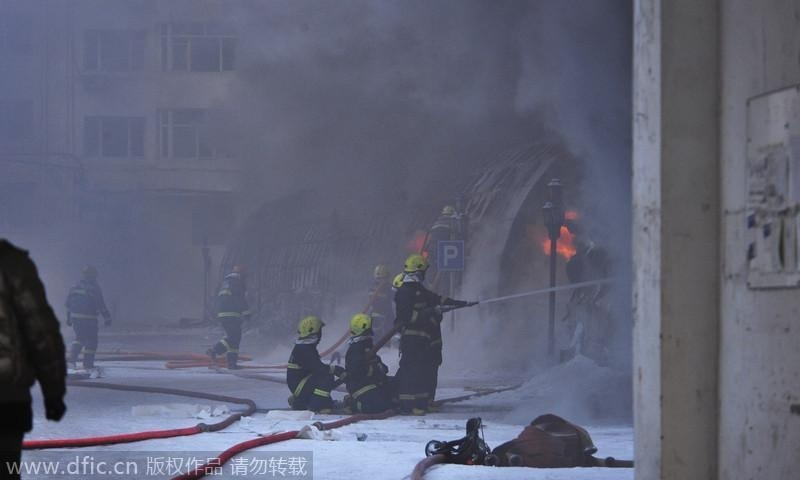fire: (541, 214, 581, 259)
